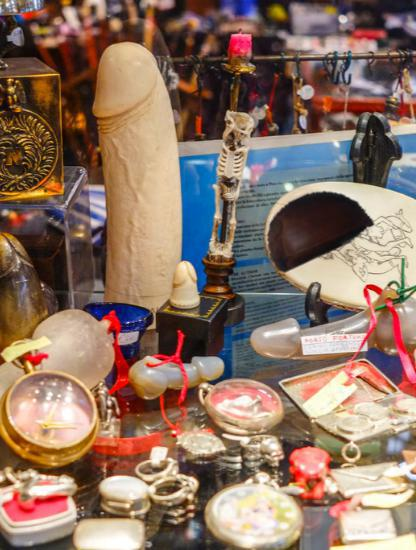Chestnut: (259, 168, 372, 281)
